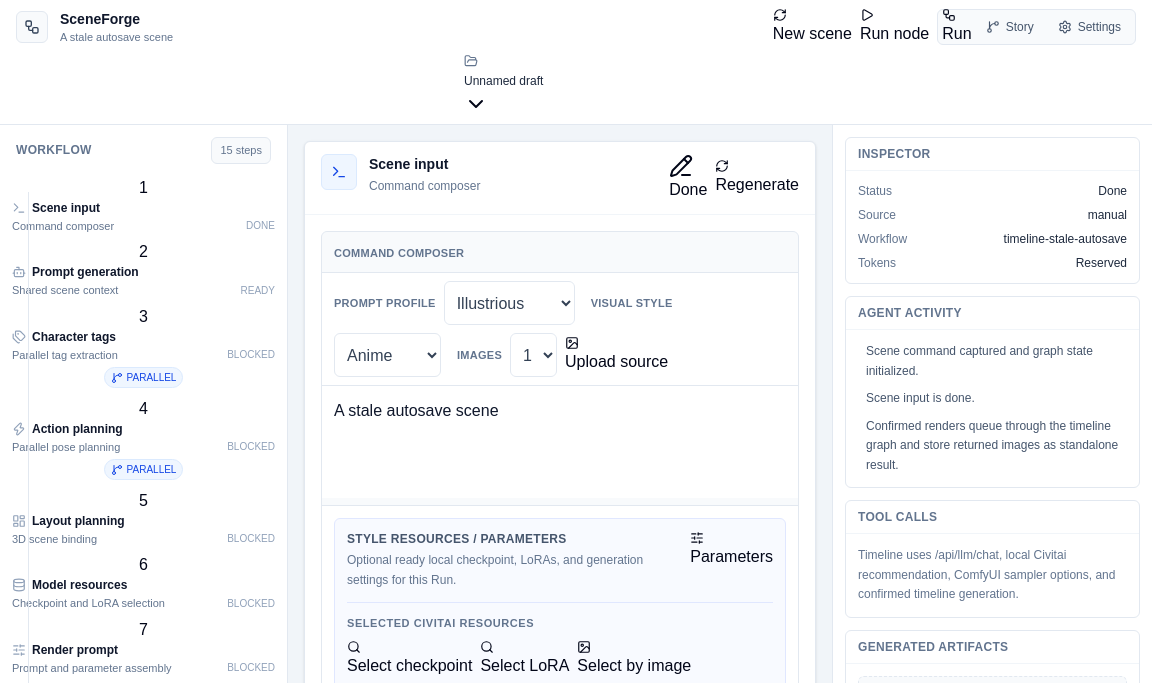
Scenario: TimelineShell › keeps New scene clear when an older autosave finishes late
Click the button "New scene" at (812, 27), box left=773, top=8, right=852, bottom=46
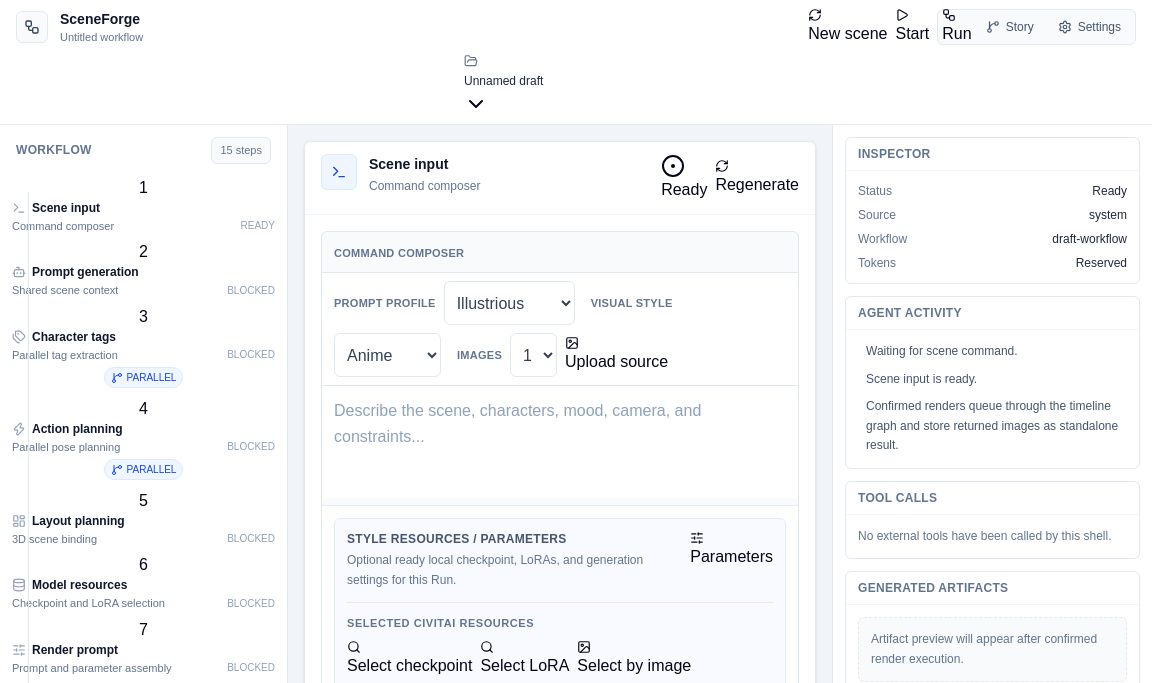
Now the text "Waiting for scene command." is shown, box left=866, top=342, right=1018, bottom=362
Now the text box labelled "Command composer" is empty, box left=322, top=386, right=798, bottom=498
Now the text "A stale autosave scene" is gone
